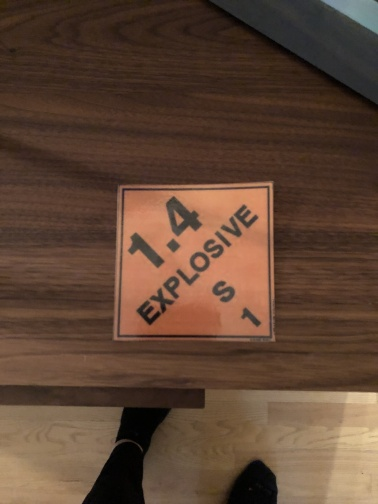Explosive: (117, 184, 272, 338)
